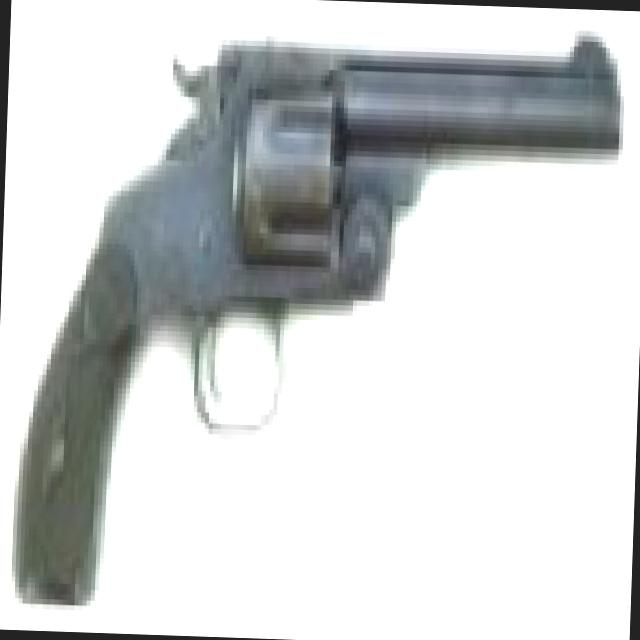handgun: (2, 0, 623, 613)
